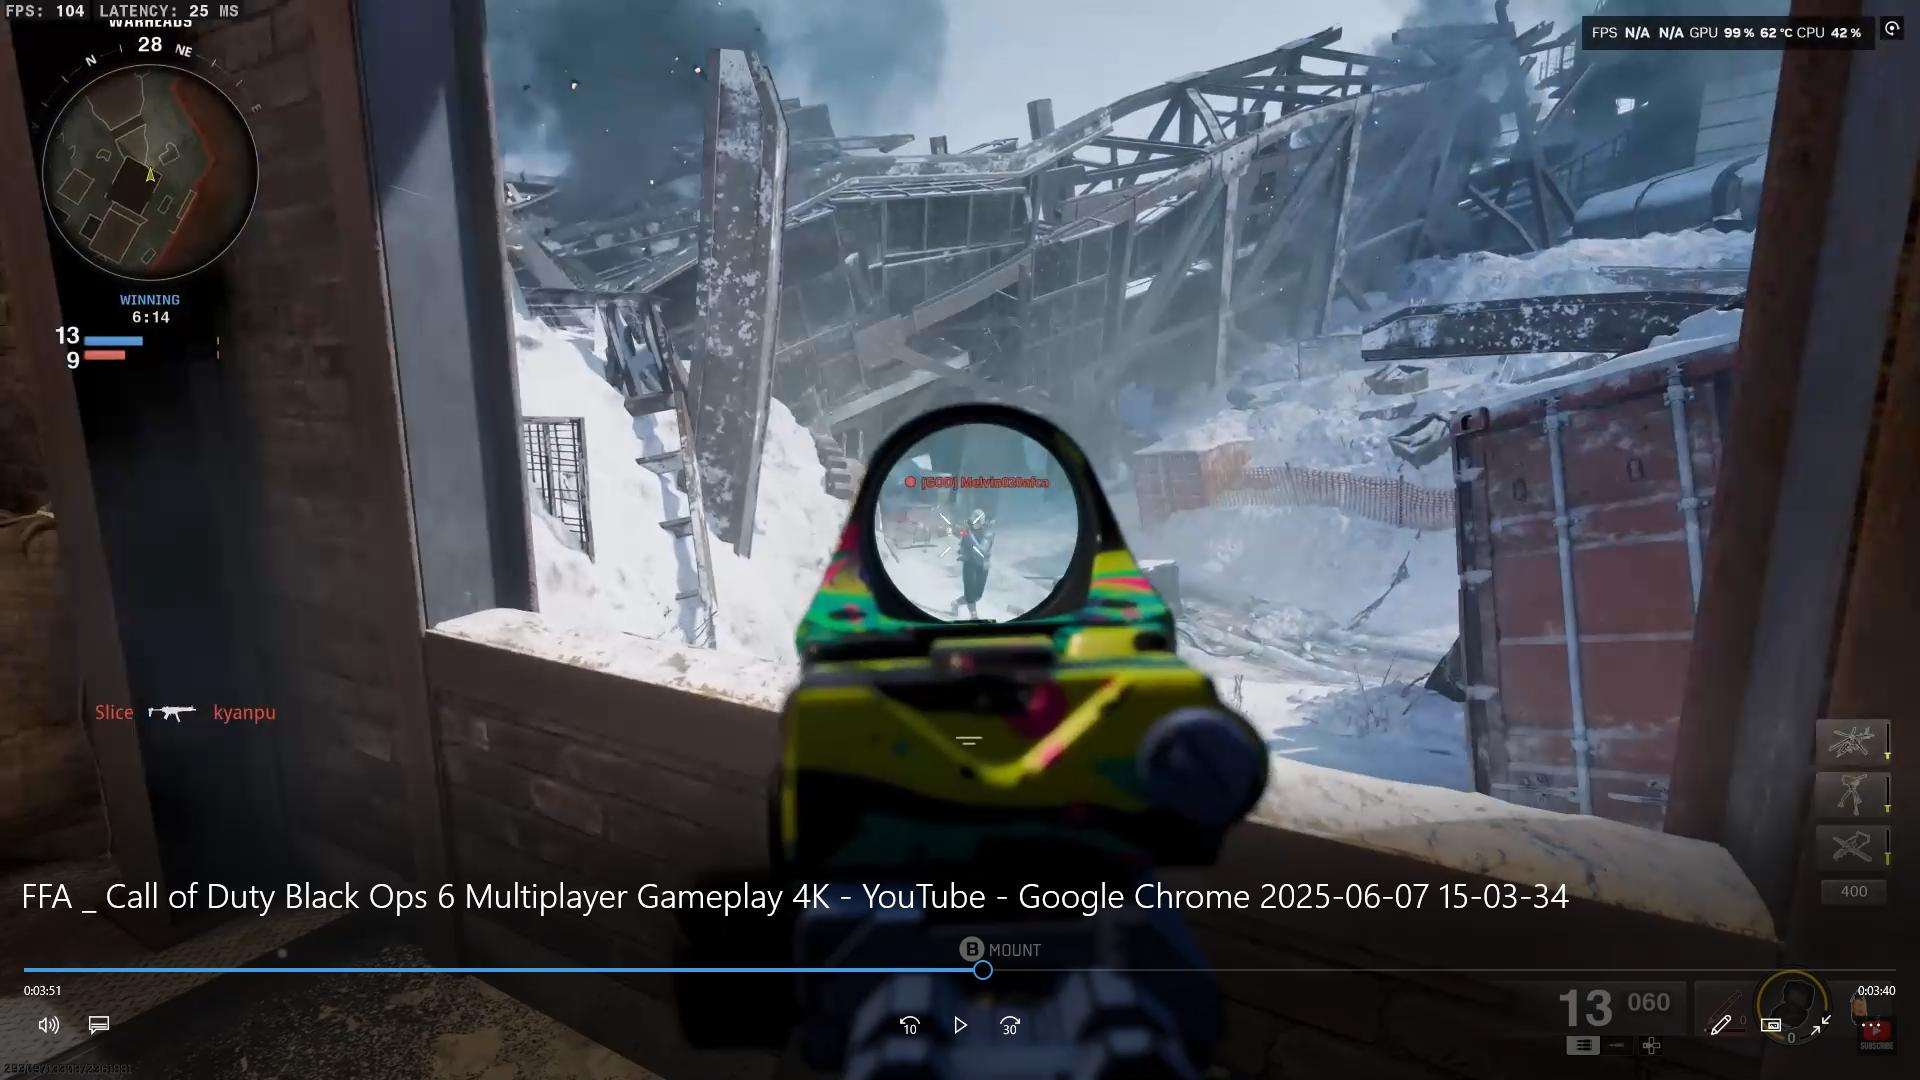Enemy: (945, 502, 1005, 615)
